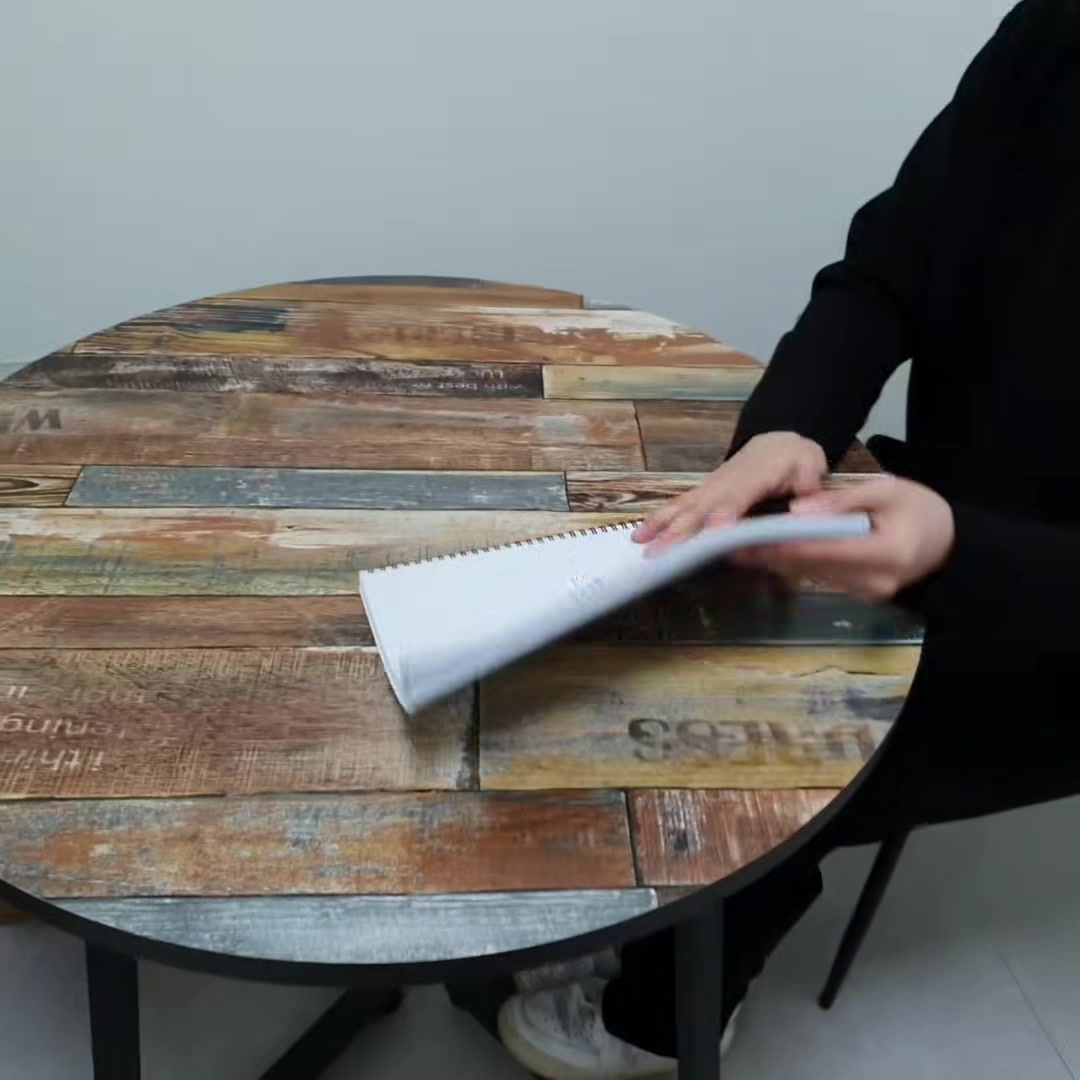book: (353, 465, 896, 751)
